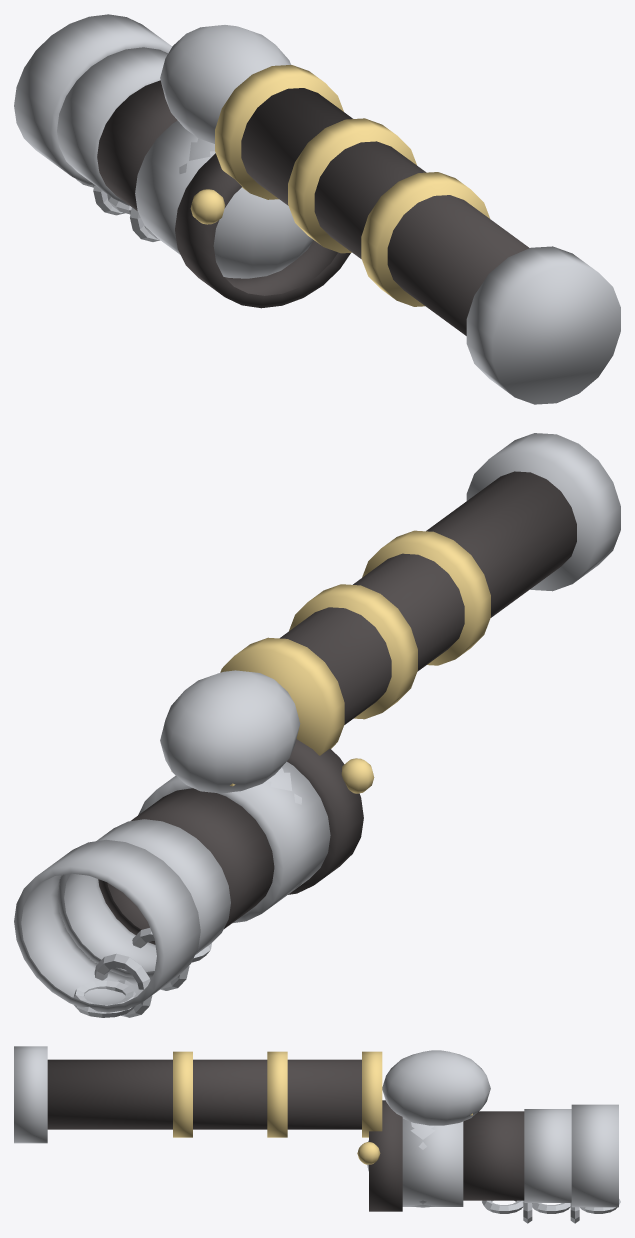
File: valken_kanone.glb
3 renders of one model, top to bottom at view 1: azimuth 30°, elevation 25°; view 2: azimuth 150°, elevation 25°; view 3: azimuth 270°, elevation 25°, orthographic. The views are drawn at different scales.
Parts seen in each view (by area): view 1: G_valken_kanone; view 2: G_valken_kanone; view 3: G_valken_kanone.
Boxes of the visible parts, bbox=[...] form: G_valken_kanone: bbox=[14, 14, 620, 404]; G_valken_kanone: bbox=[14, 433, 620, 1017]; G_valken_kanone: bbox=[14, 1046, 620, 1223].
Bounding box in the file's own units: 0.1969 × 0.2792 × 0.898.
